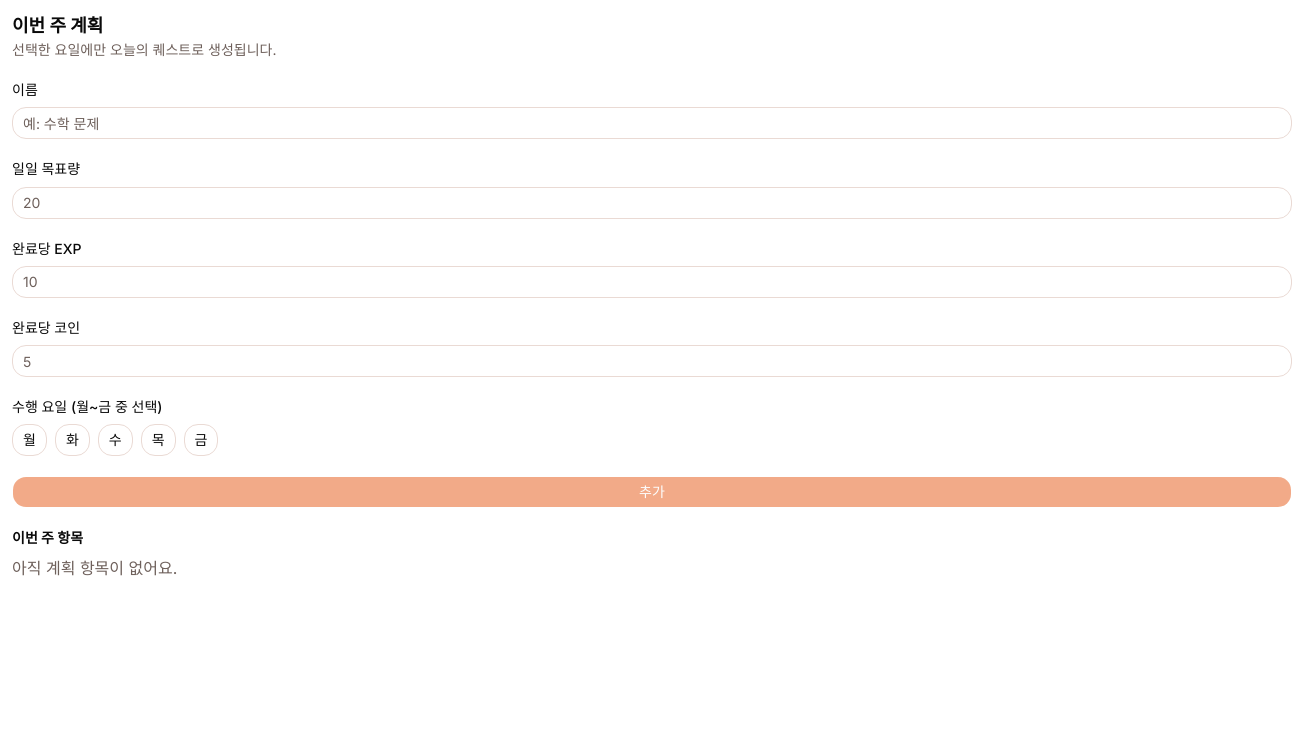
PlanScreen — 이번 주 계획 › [S2-1] 이름·목표량·요일 입력 후 추가하면 목록에 나타난다
Expected: the text "아직 계획 항목이 없어요." is shown, [12,558,177,578]
Type "한자 쓰기" into the field with placeholder "예: 수학 문제" at (652, 123), box [12,107,1292,139]
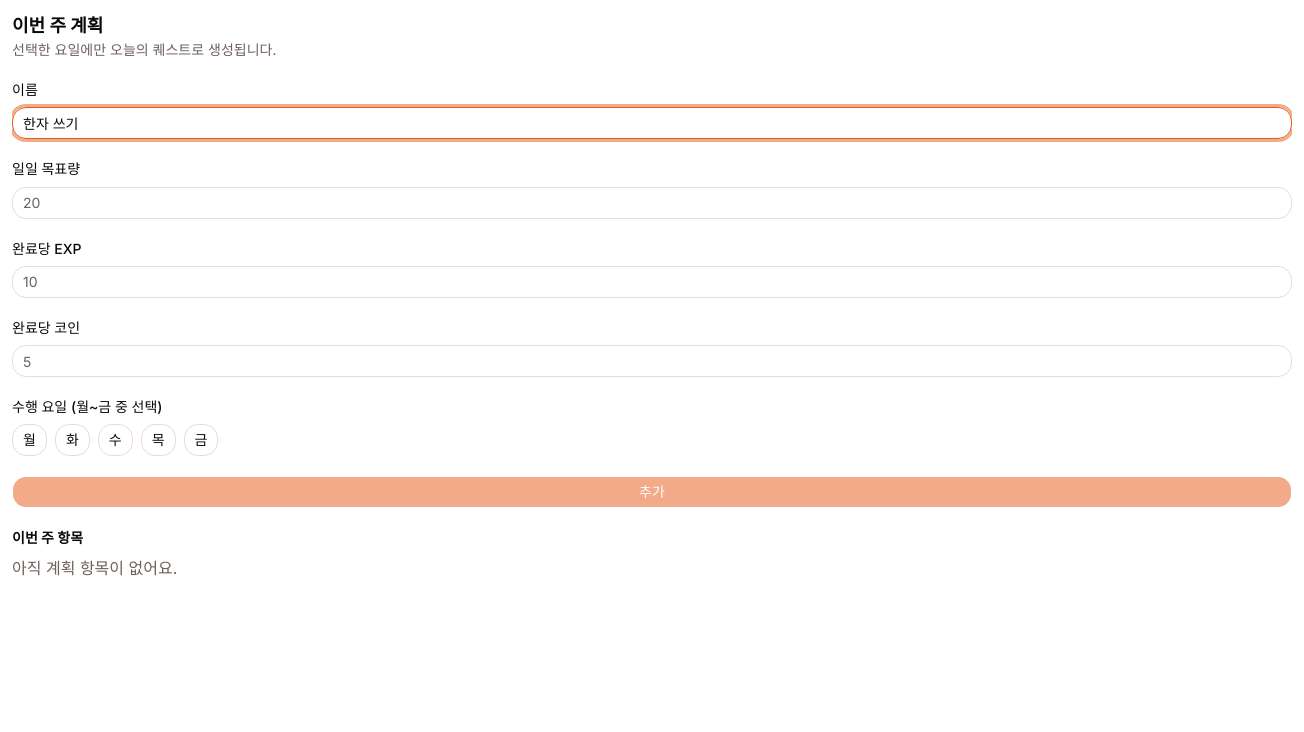
Type "15" into the number field with placeholder "20" at (652, 202), box [12,186,1292,218]
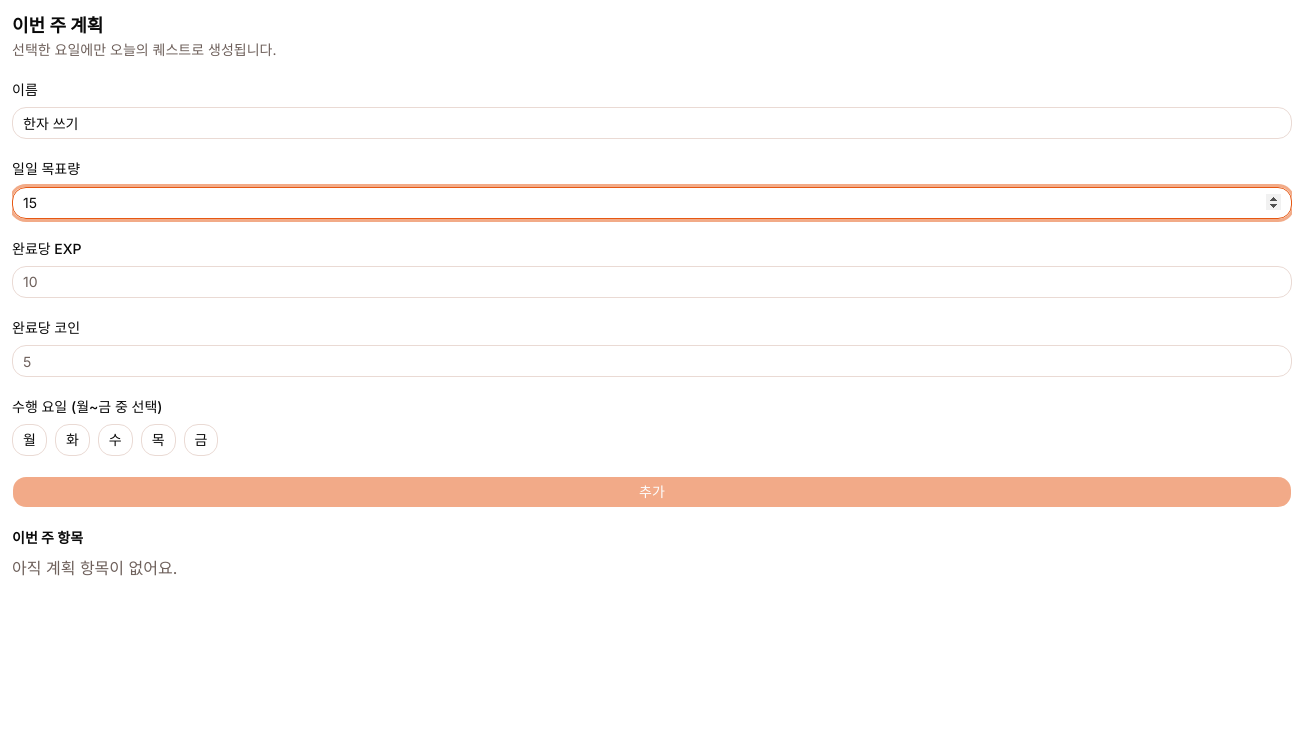
Click the button "화" at (72, 440), box [55,424,90,456]
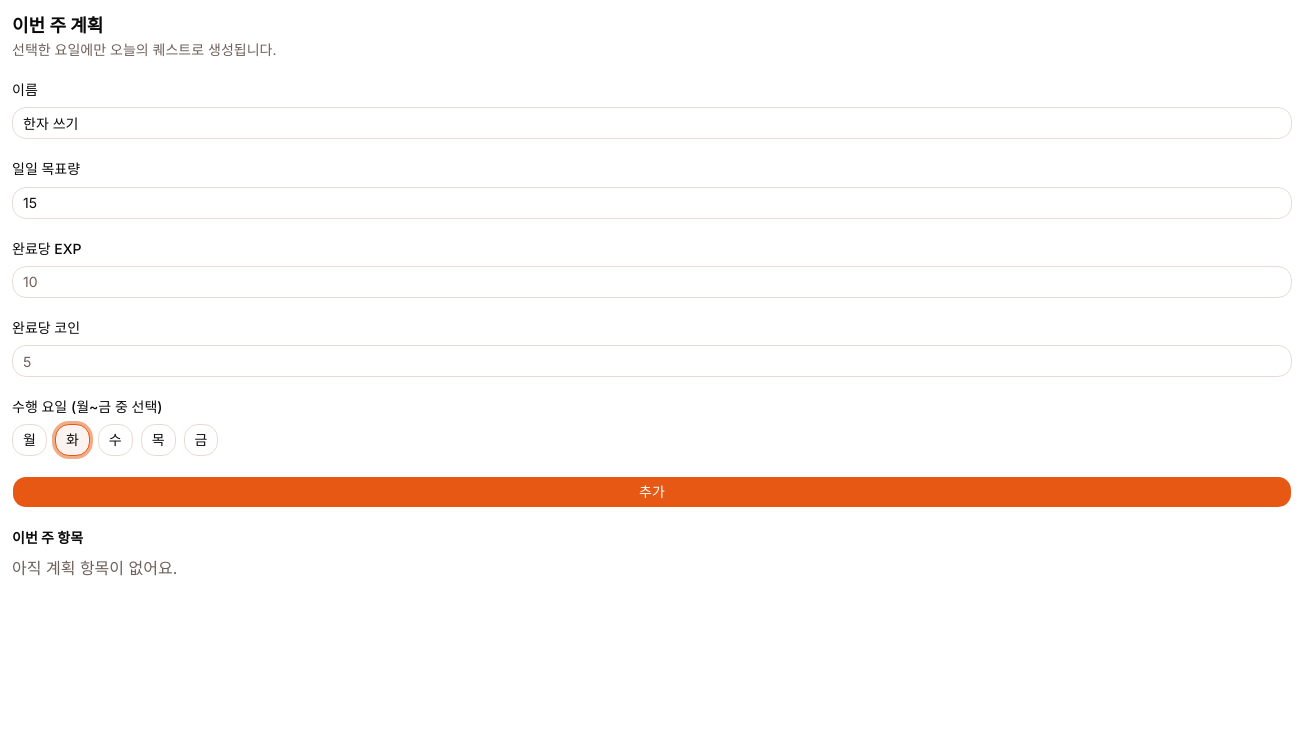
Click the button "목" at (158, 440), box [141,424,176,456]
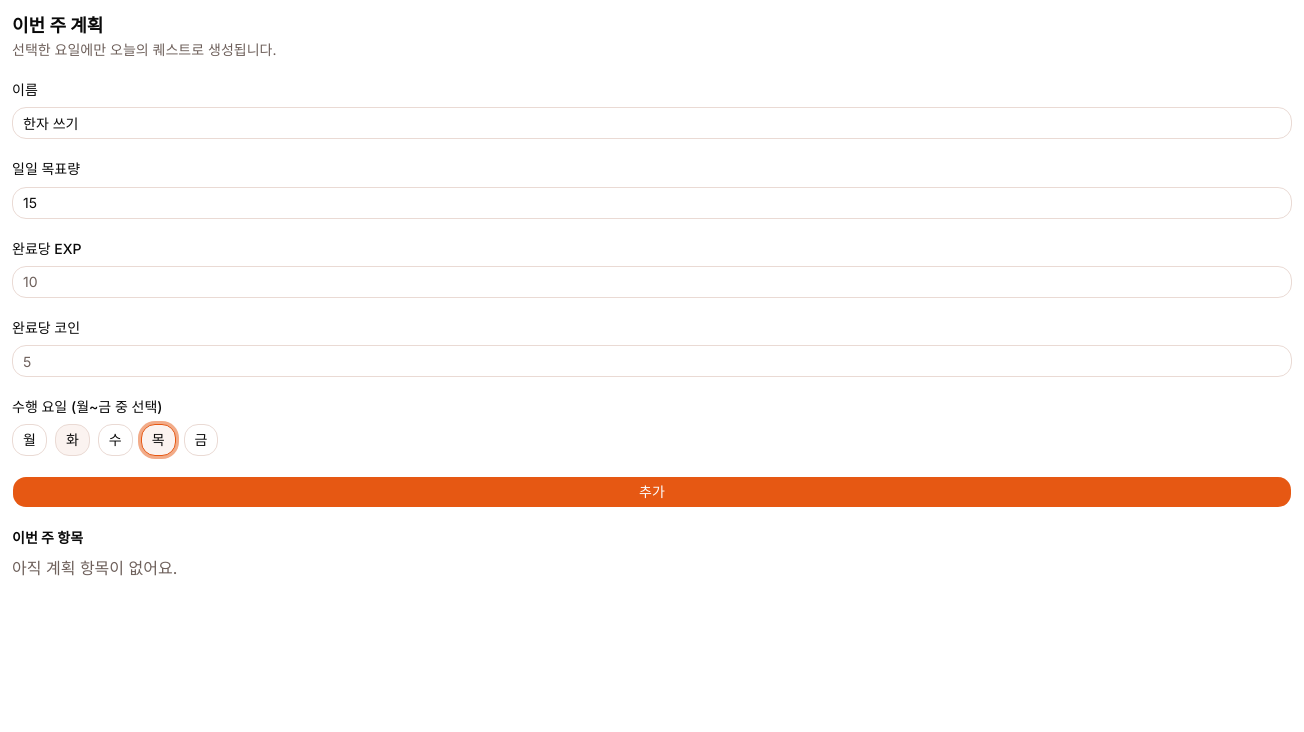
Click the button "추가" at (652, 492), box [12,476,1292,508]
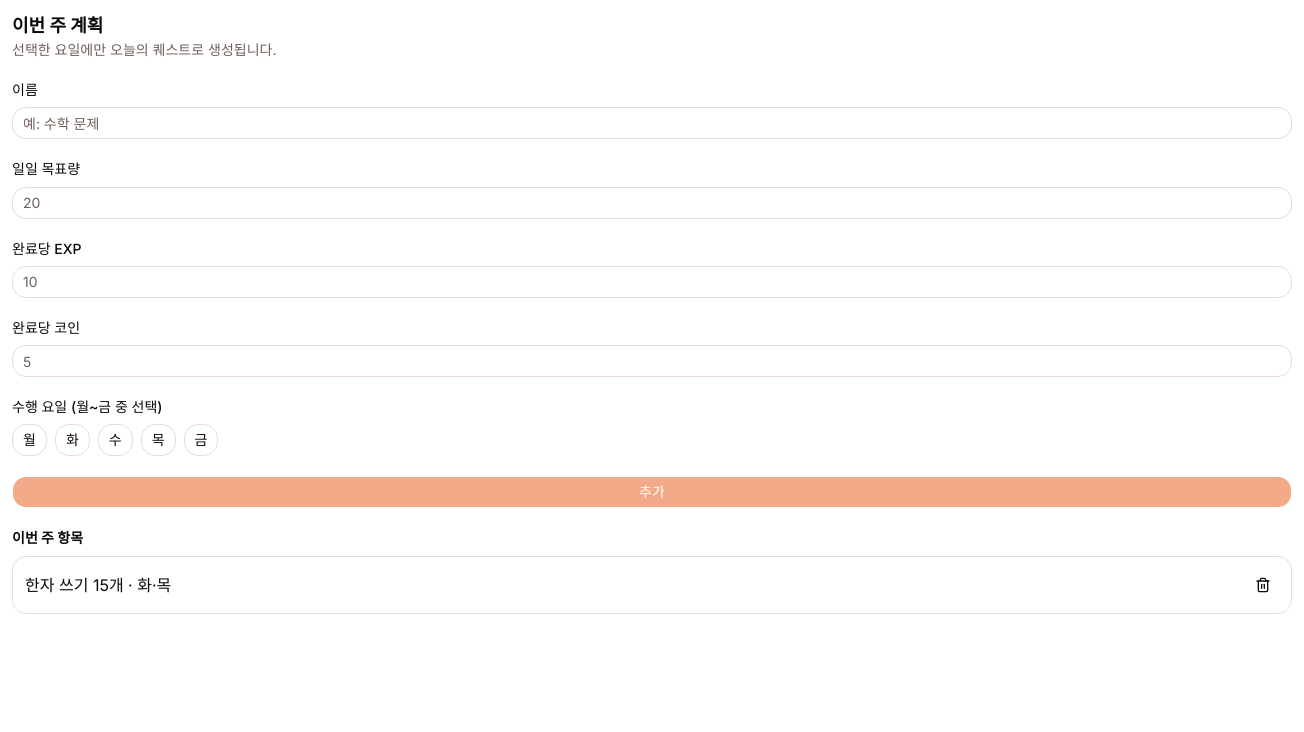
Expected: the text "한자 쓰기 15개 · 화·목" is shown, [25,575,171,595]
